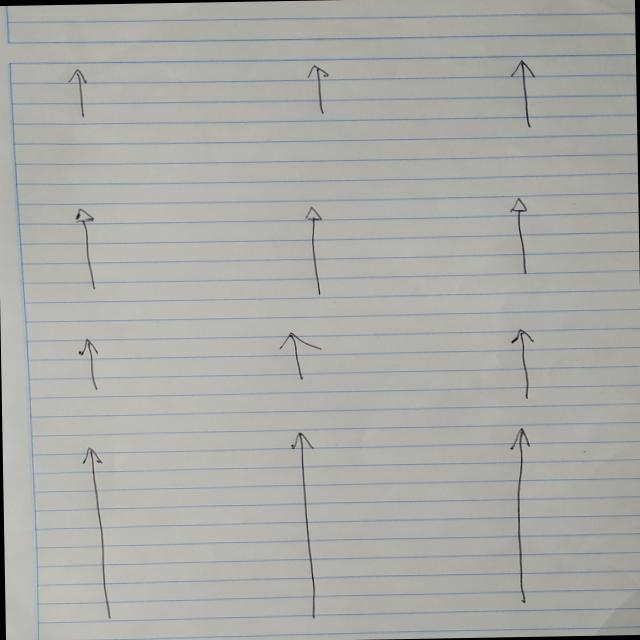arrow_line_up: (79, 447, 116, 621), (290, 431, 322, 619), (508, 427, 534, 607), (72, 208, 100, 290), (302, 206, 326, 296), (507, 326, 537, 398), (278, 332, 321, 382), (508, 59, 538, 130), (509, 197, 532, 276), (306, 64, 330, 117), (66, 68, 90, 120), (77, 338, 101, 390)
